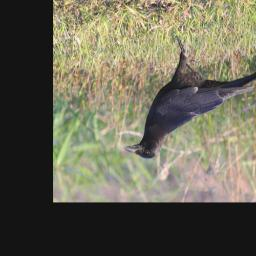Crow: (123, 32, 256, 161)
